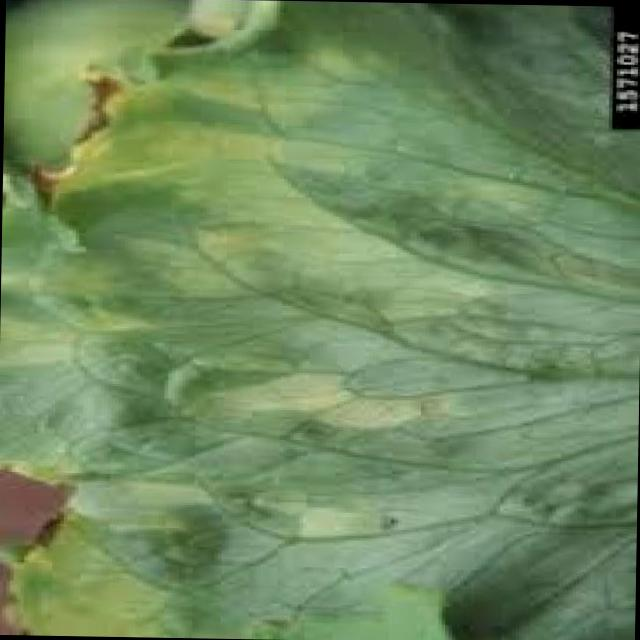Downy_mildew: (75, 138, 602, 567)
